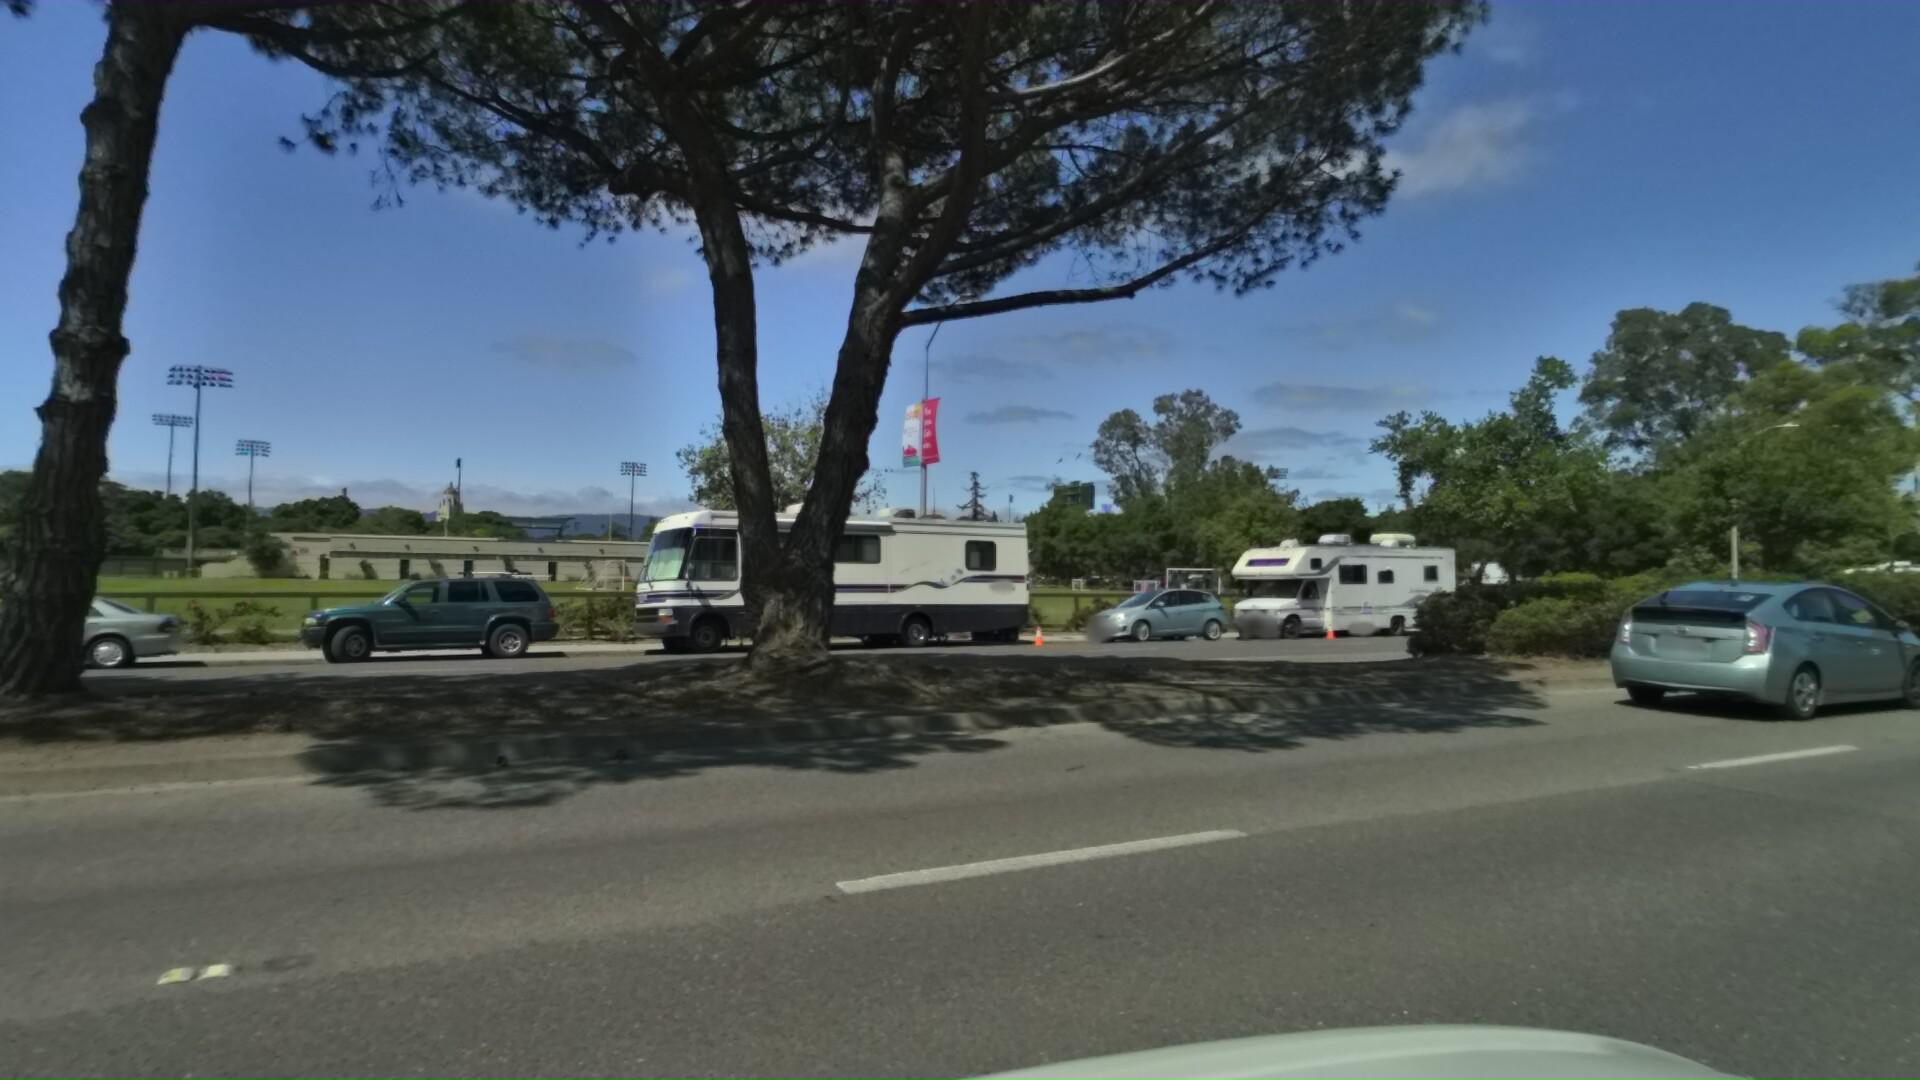car: (1600, 575, 1920, 733), (258, 553, 543, 673), (0, 585, 161, 684), (1060, 579, 1224, 644)
other_vehicle: (591, 481, 1025, 659), (1193, 512, 1457, 644), (1815, 549, 1920, 620)
